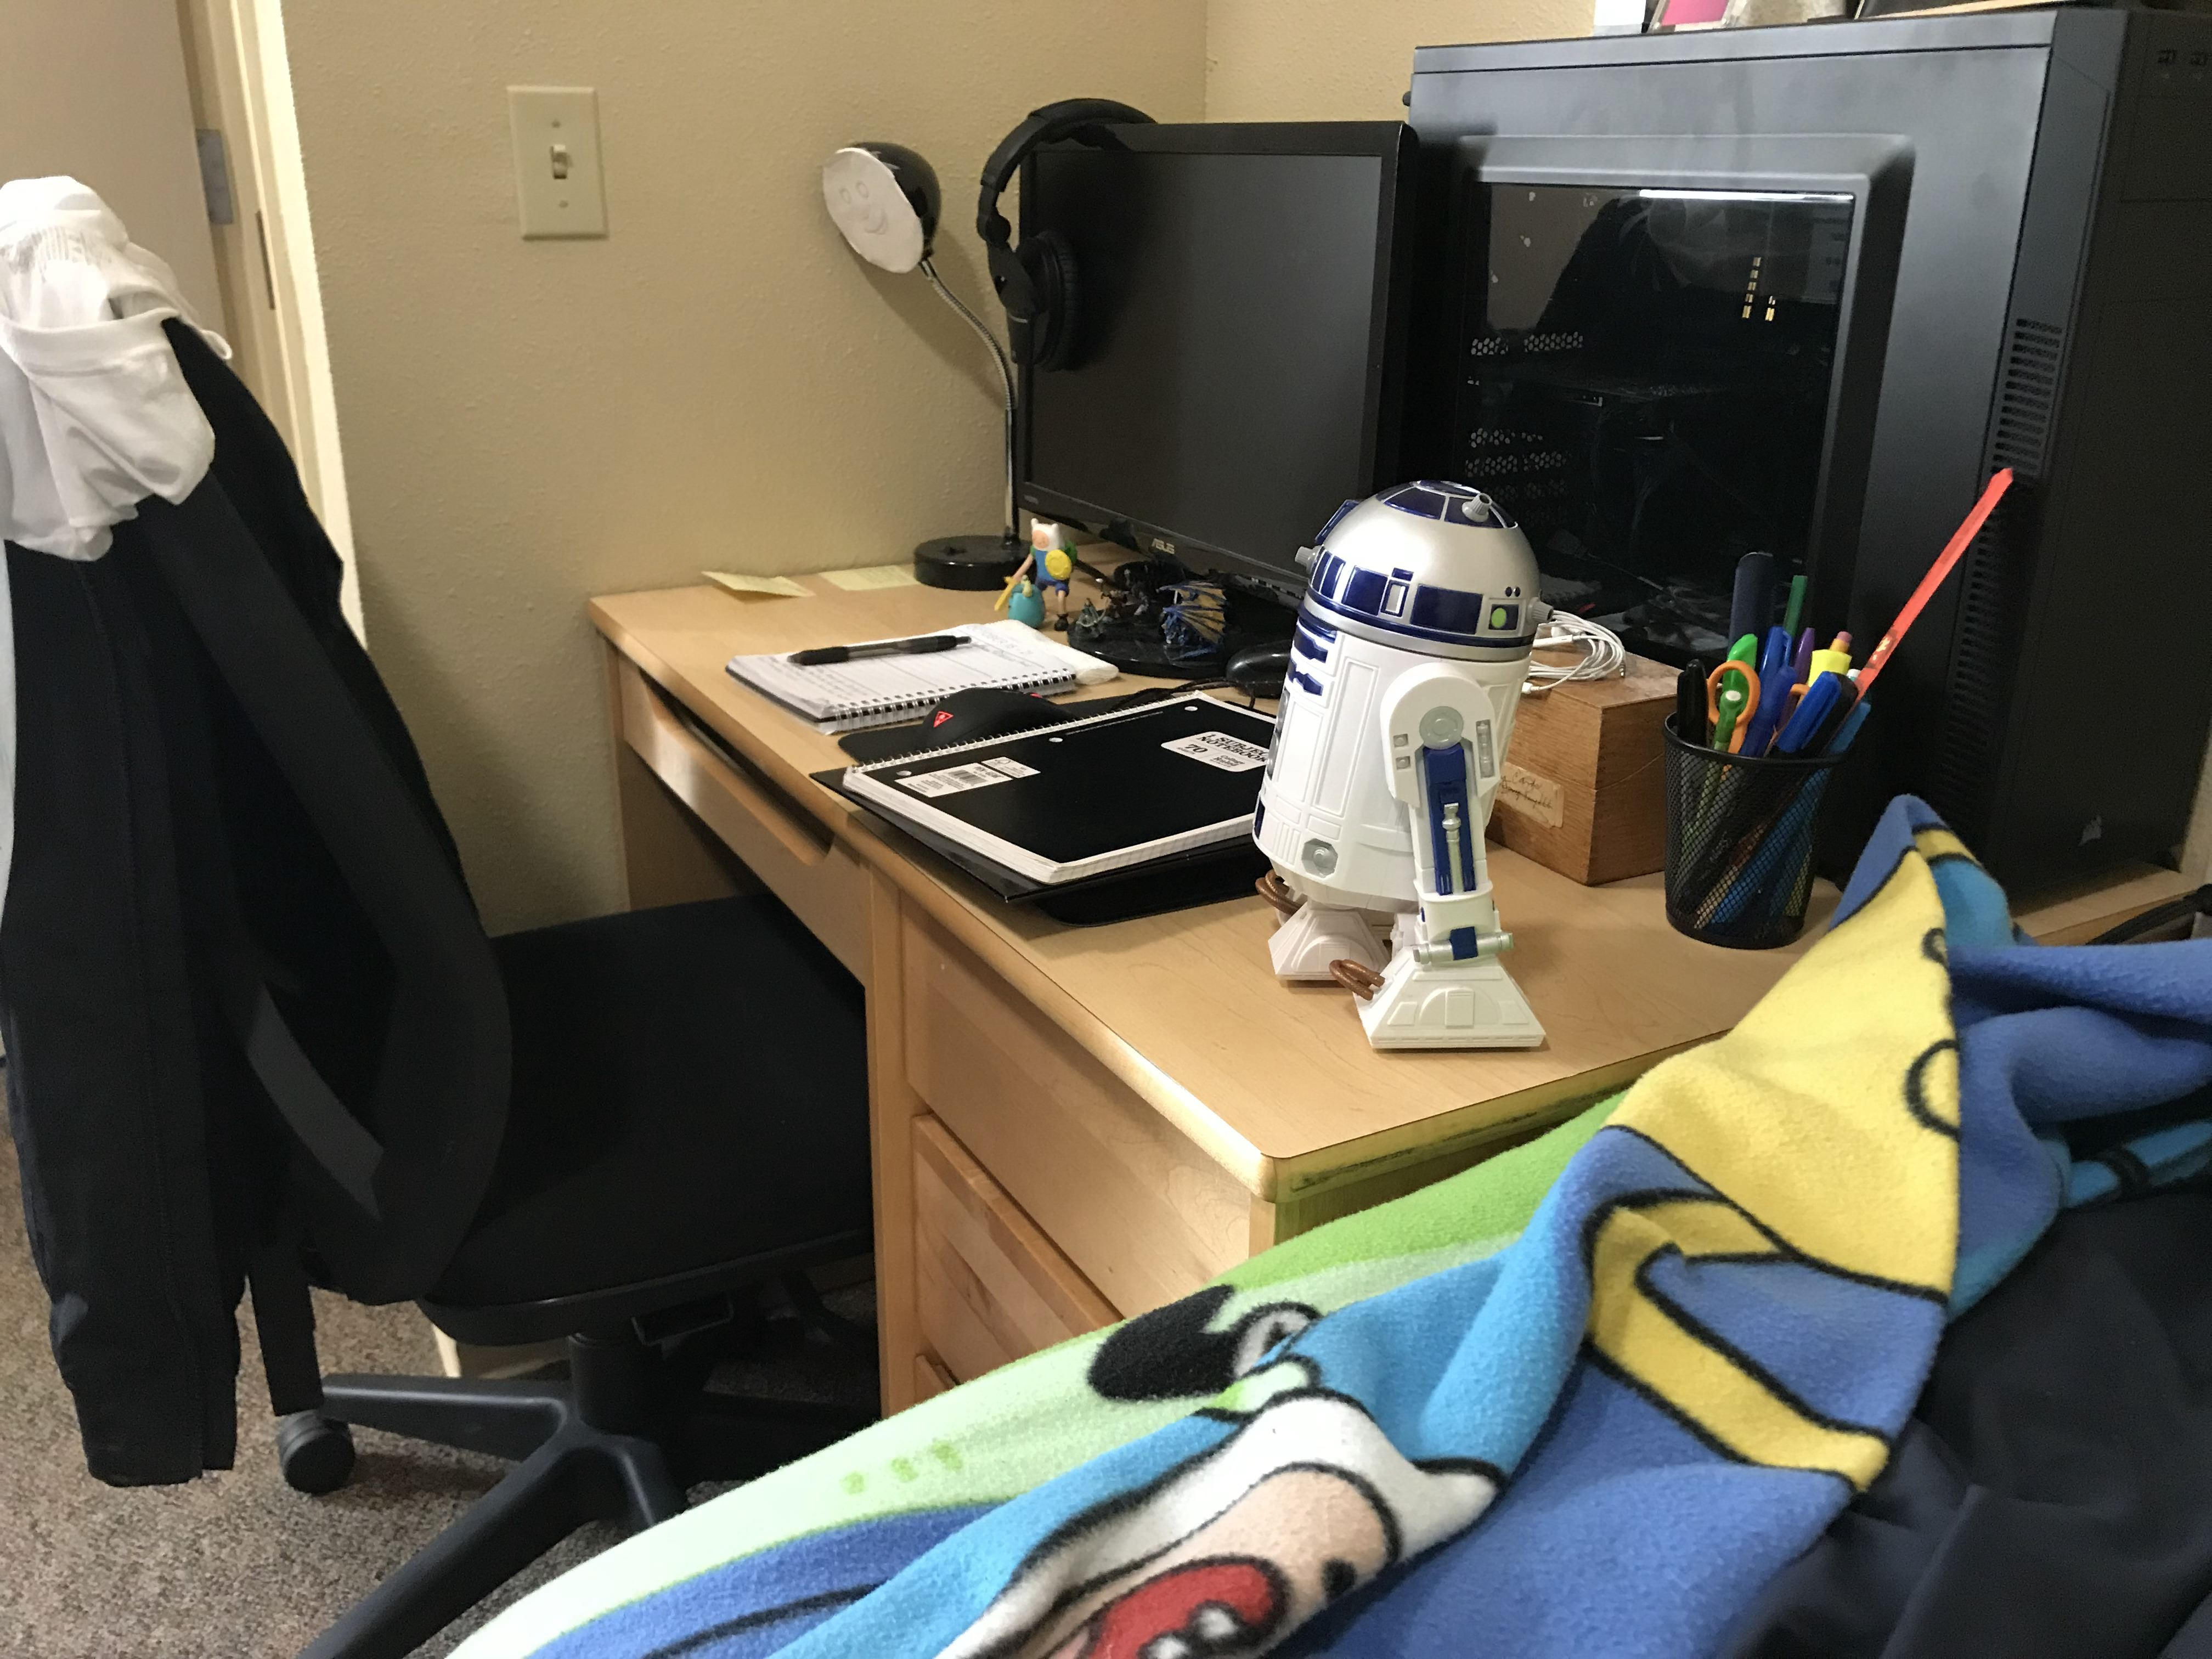r2d2: (1259, 479, 1552, 1054)
